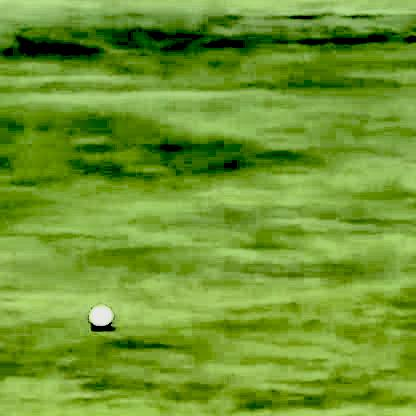golfball: (86, 303, 111, 327)
